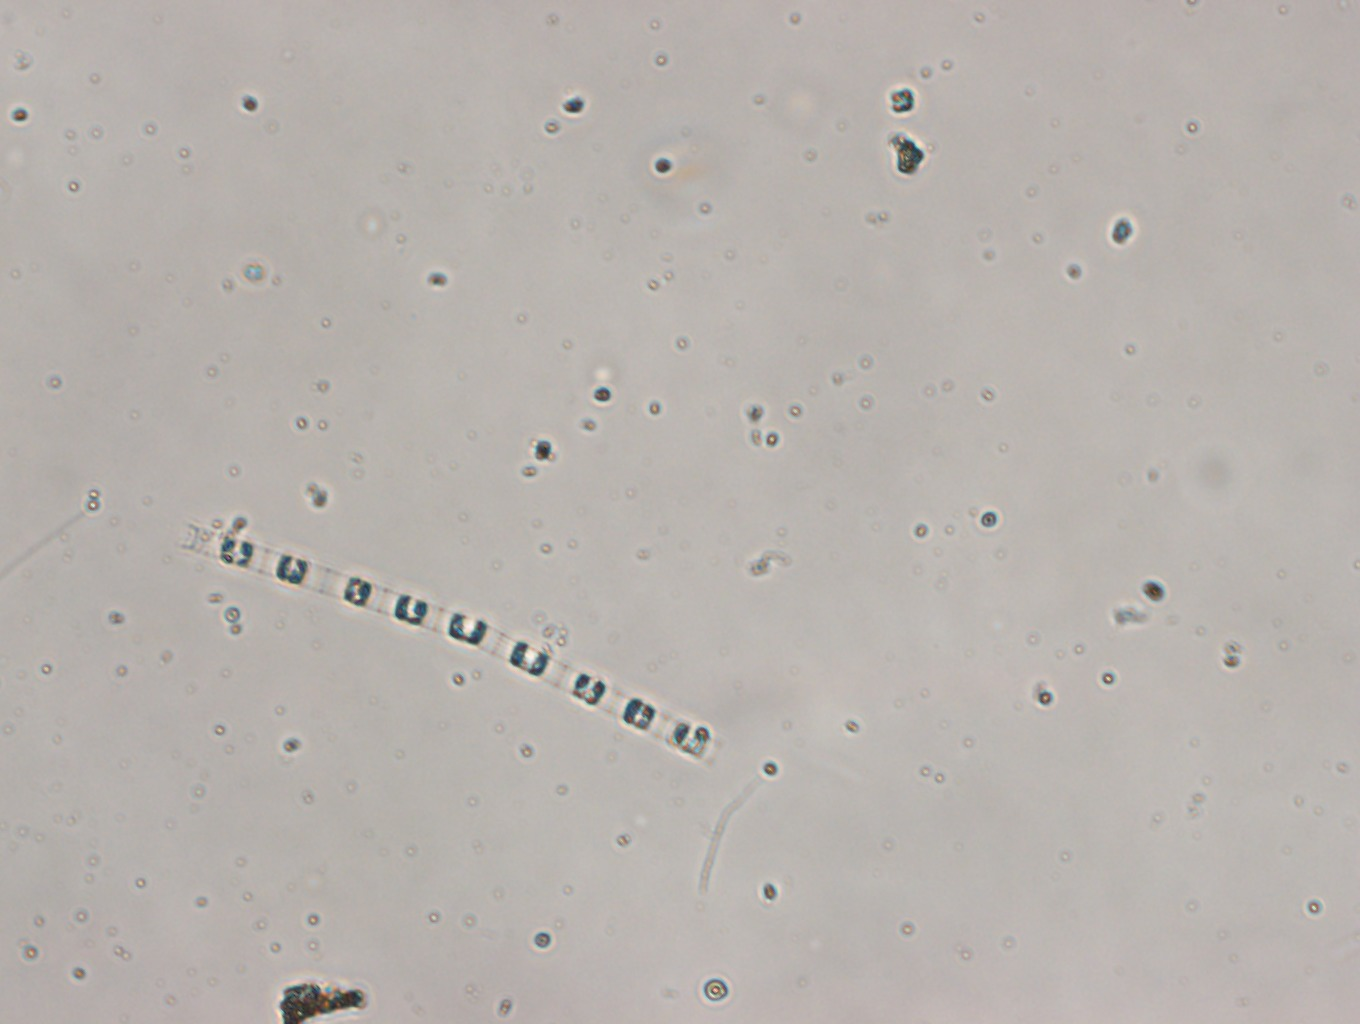skeletonema: (175, 522, 718, 769)
